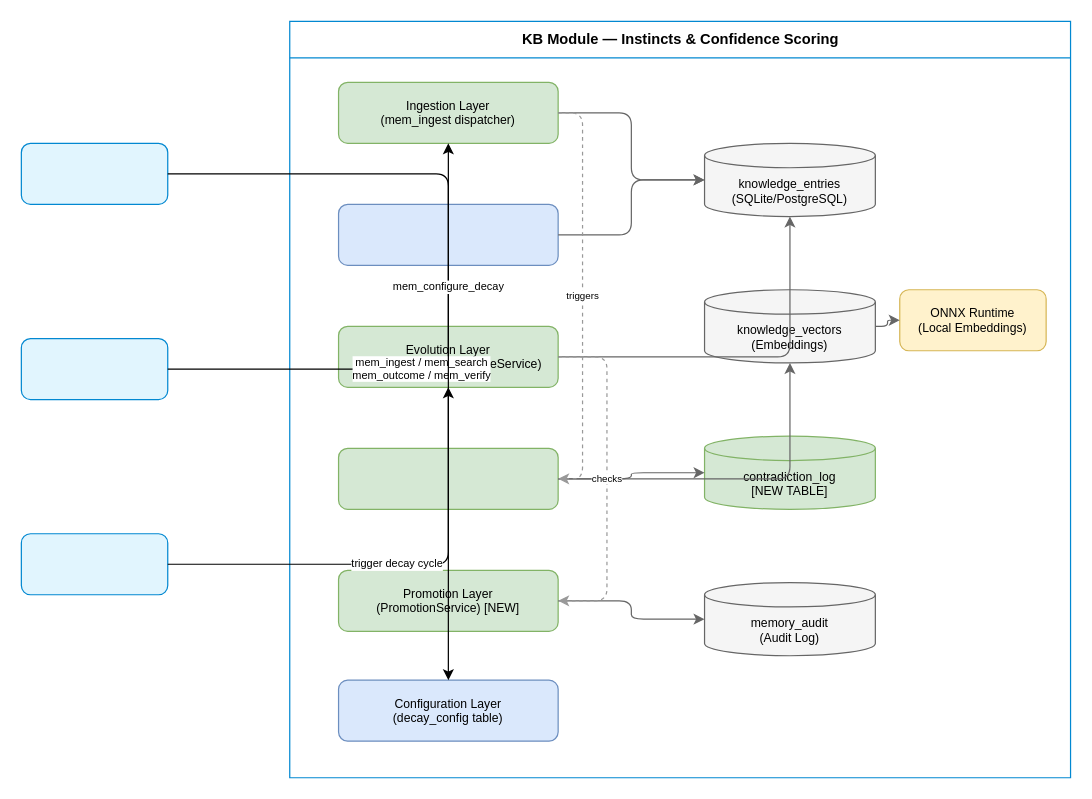
Some shapes in this 1092 by 799 pixel diagram are drawn without their labels. The shapes that lost their labels are listed below. From the top down, each one's box as (x1, y1, x2, y2) in pixels, then its label:
(20, 142, 168, 204): System Operator
(337, 203, 558, 265): Search Layer (CompositeScorer)
(20, 337, 168, 400): AI Agent
(337, 447, 558, 509): Contradiction Layer (ContradictionService) [NEW]
(20, 533, 168, 595): Scheduler (24h cycle)
